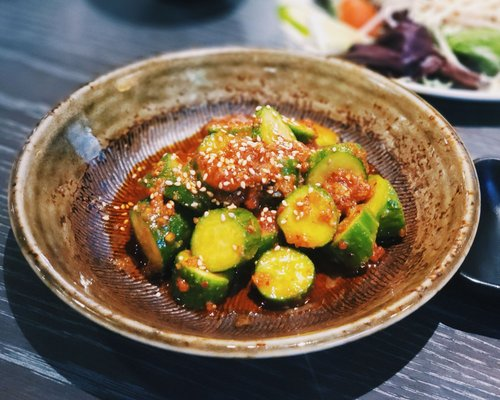sushi: (17, 46, 482, 367)
